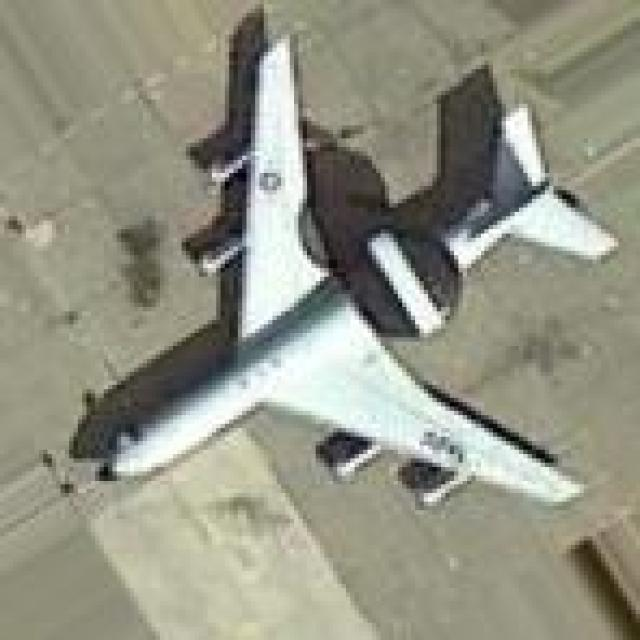E-3_TopDown: (65, 8, 618, 514)
